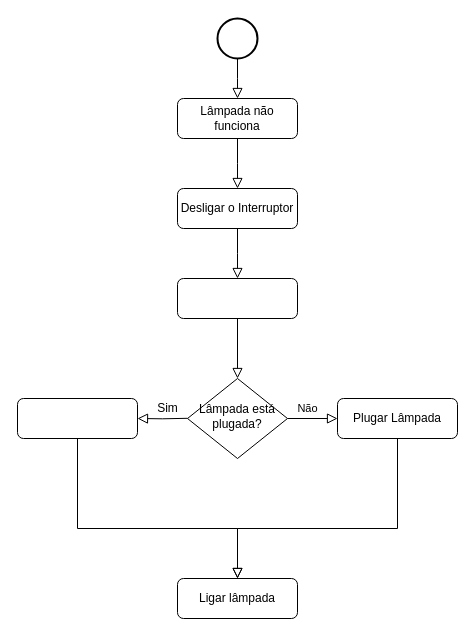
The diagram is 475 pixels wide and 636 high, and some of its shapes have lost their labels. Here are the shapes that lost their labels. From the top down, the box of each, then its label:
(176, 278, 298, 318): Subir na cadeira
(16, 398, 138, 438): Substituir lâmpada
